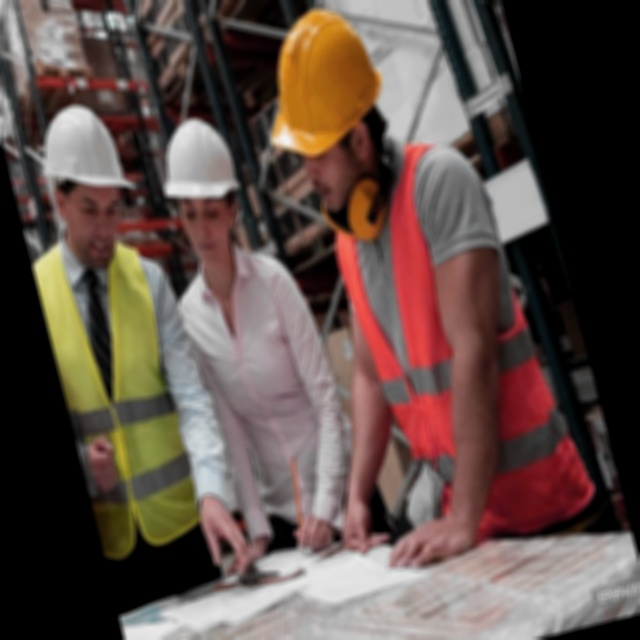Con_Casco: (242, 0, 410, 229), (29, 98, 147, 272), (147, 108, 256, 274)
Con_Chaleco: (321, 148, 576, 556), (31, 230, 219, 560)
Sin_Chaleco: (176, 253, 357, 554)
